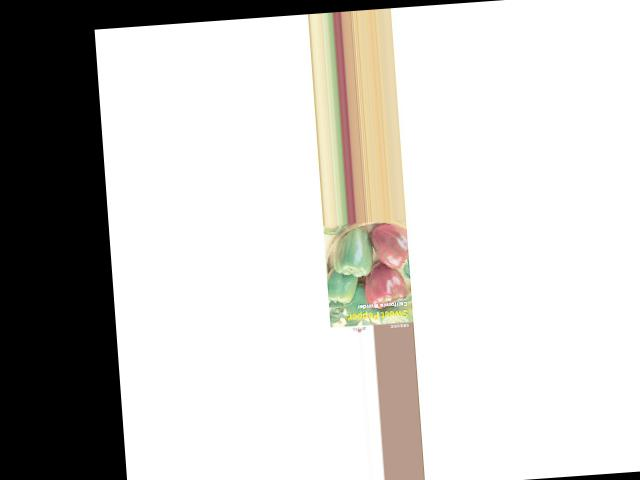bell_pepper: (324, 261, 356, 307)
